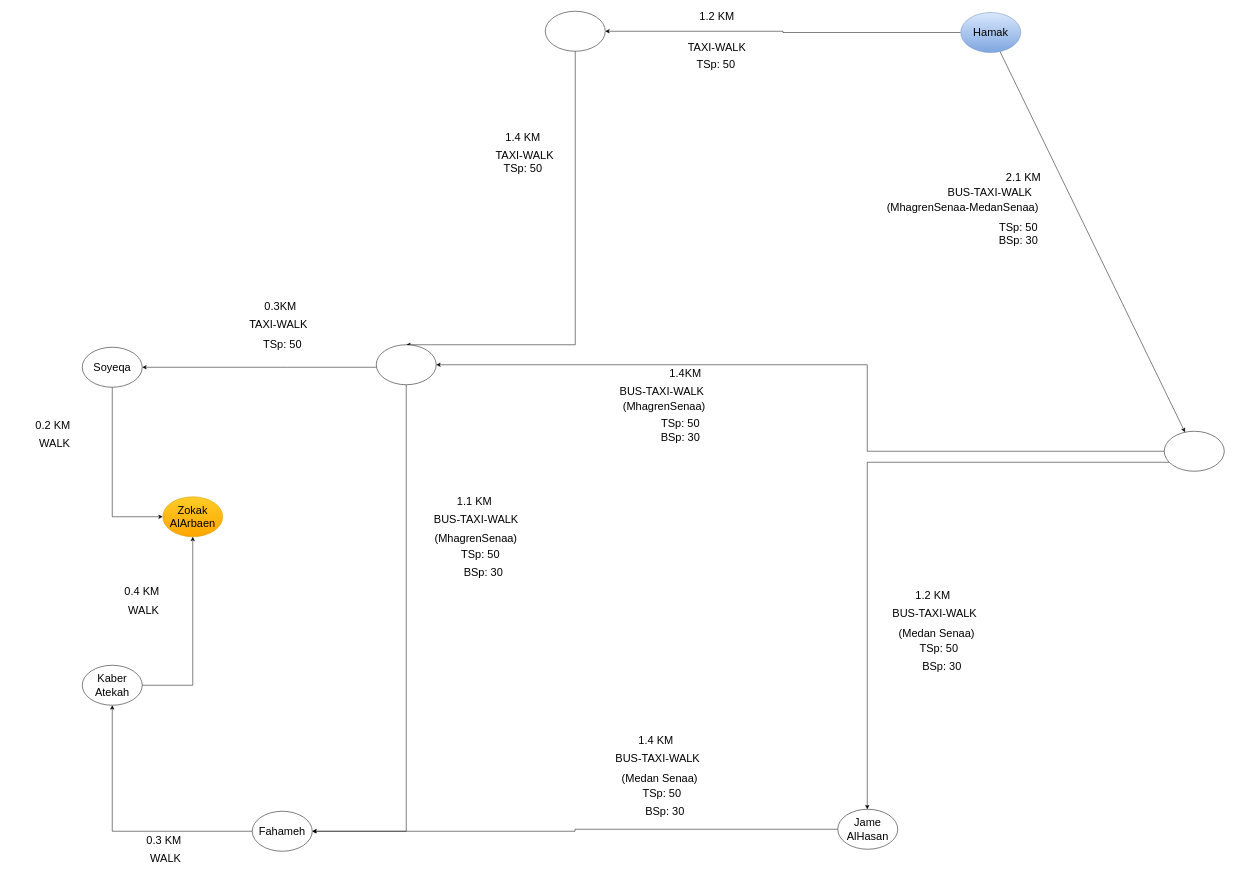
This 1233x875 diagram has some shape labels left out. Here are the shapes that lost their labels. From the top down, the box of each, then its label:
(545, 11, 605, 51): Betara
(376, 344, 436, 385): Bab Mosllah
(1164, 431, 1224, 471): Zahera
